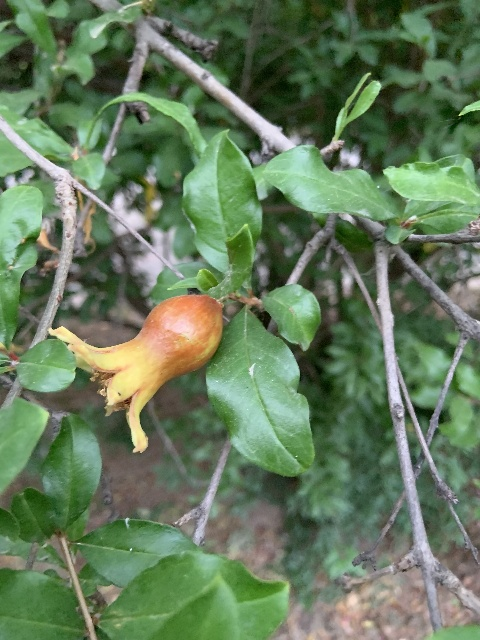early-fruit: (47, 293, 222, 453)
